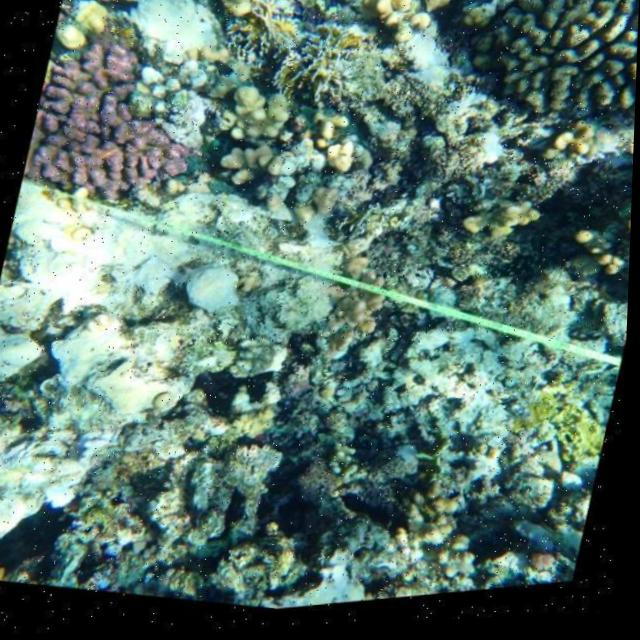Bleached Coral: (355, 314, 546, 473), (52, 0, 249, 88), (101, 54, 237, 166)
Dead Coral: (474, 0, 640, 128)
Healthy Coral: (35, 66, 184, 218)
